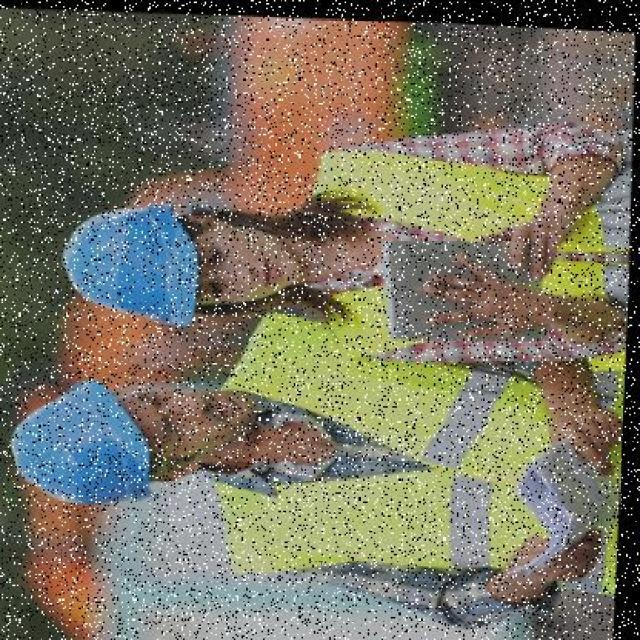helmet: (8, 361, 176, 513), (56, 190, 213, 330)
vest: (215, 328, 627, 588), (293, 134, 602, 366)
